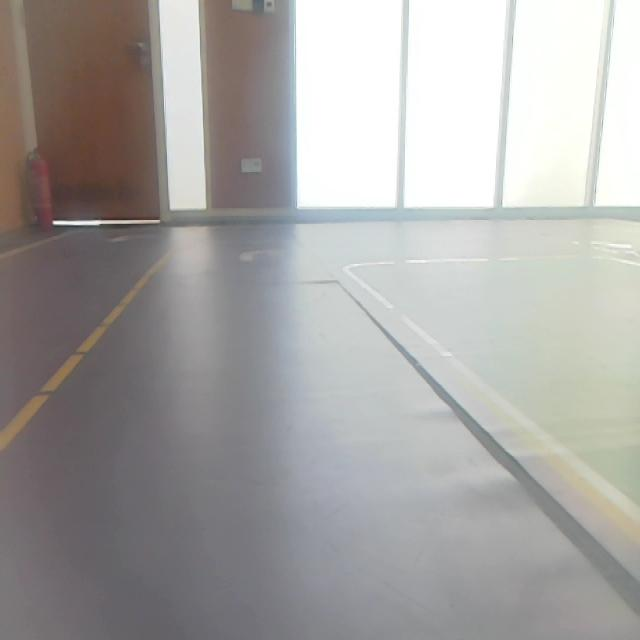left_lane: (0, 244, 180, 458)
right_lane: (342, 268, 639, 546)
